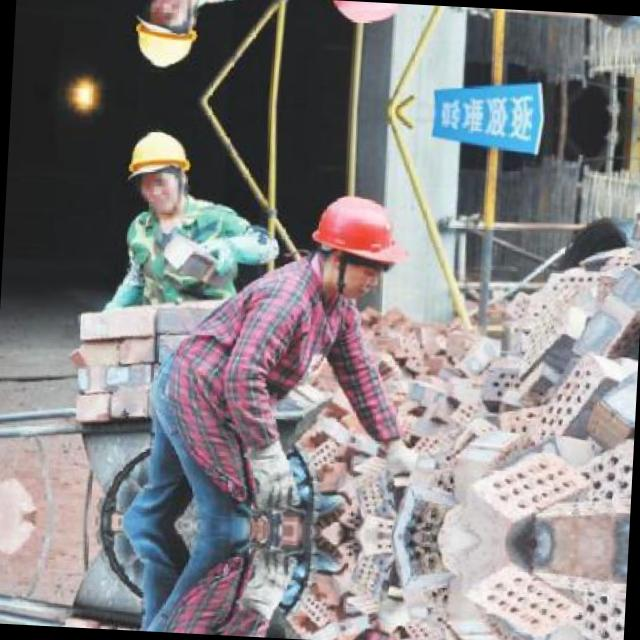helmet: (302, 186, 411, 302), (120, 122, 198, 224), (127, 0, 205, 75), (315, 0, 421, 32)
